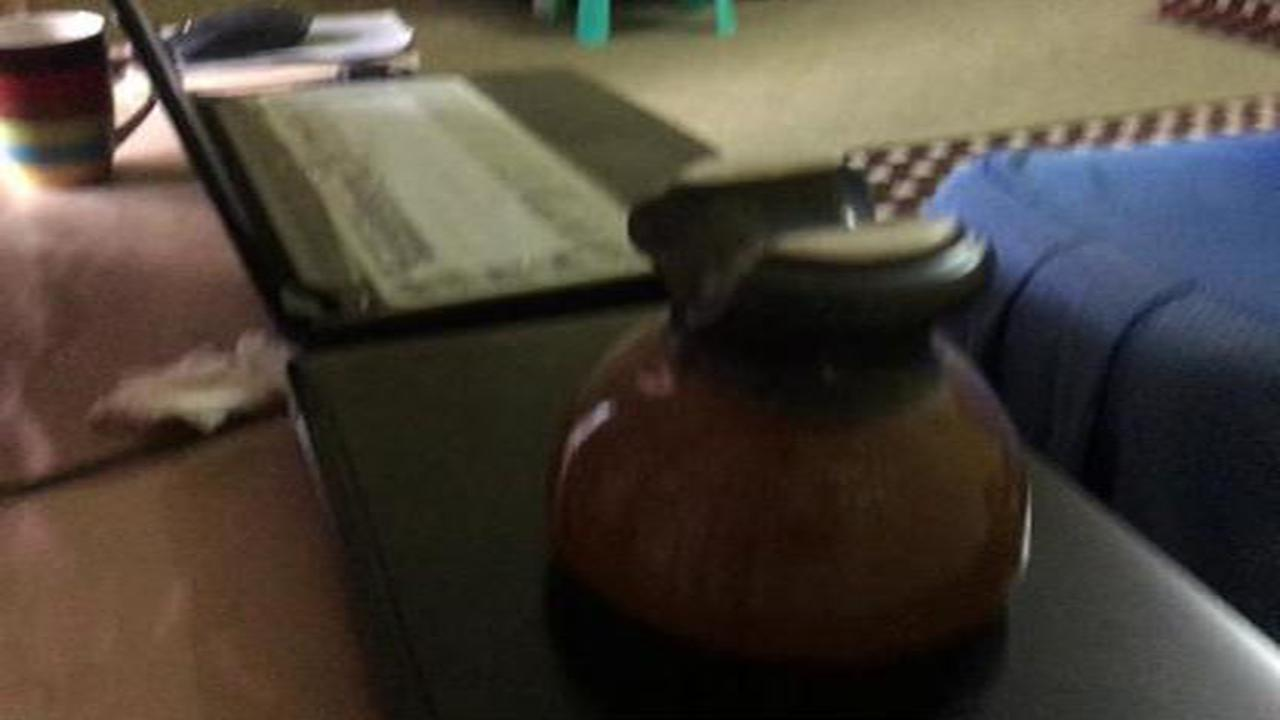insulator_pin: (530, 144, 1047, 681)
